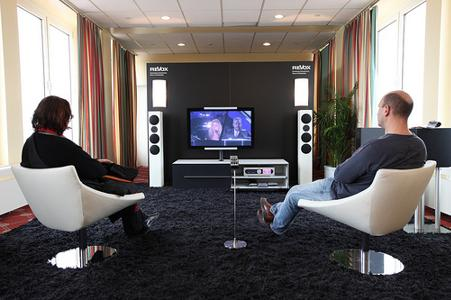person: (256, 90, 430, 240)
